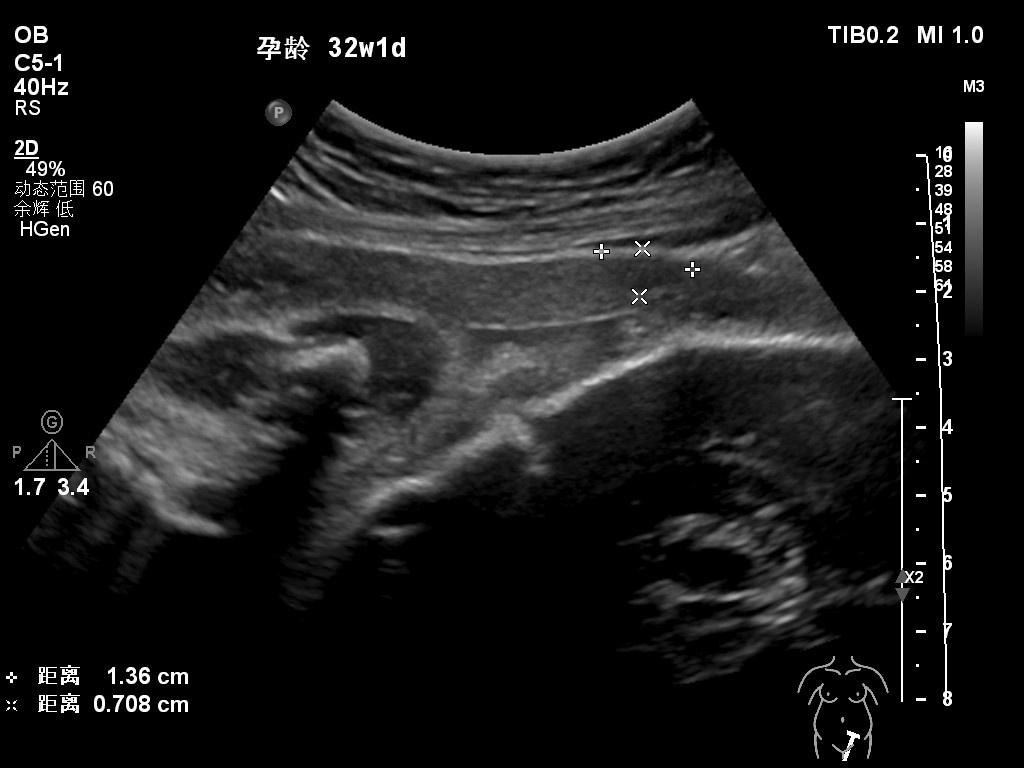肌瘤: (607, 254, 692, 293)
